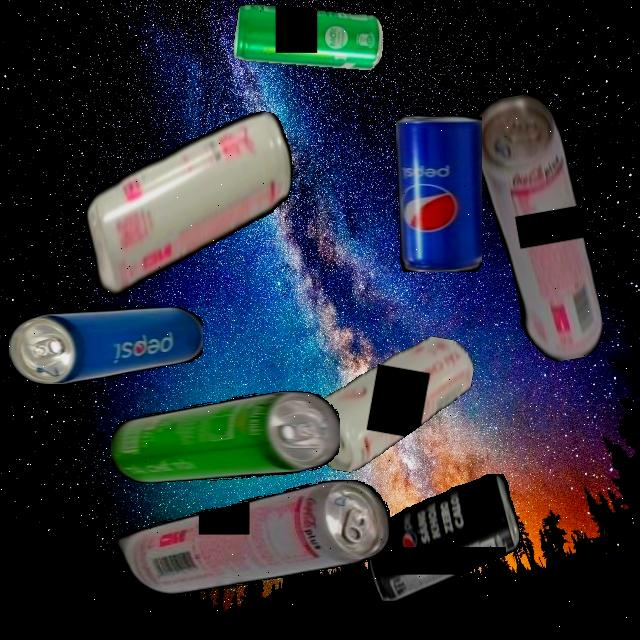debris: (74, 85, 302, 322), (468, 88, 608, 369), (115, 479, 391, 594), (299, 318, 478, 490), (110, 391, 340, 483), (366, 473, 519, 601), (9, 306, 203, 384), (396, 115, 482, 272), (233, 3, 383, 70)
